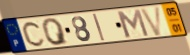8: (71, 16, 92, 43)
C: (21, 20, 47, 48)
I: (91, 13, 107, 43)
M: (115, 8, 151, 39)
Q: (41, 17, 70, 47)
V: (138, 5, 163, 37)
